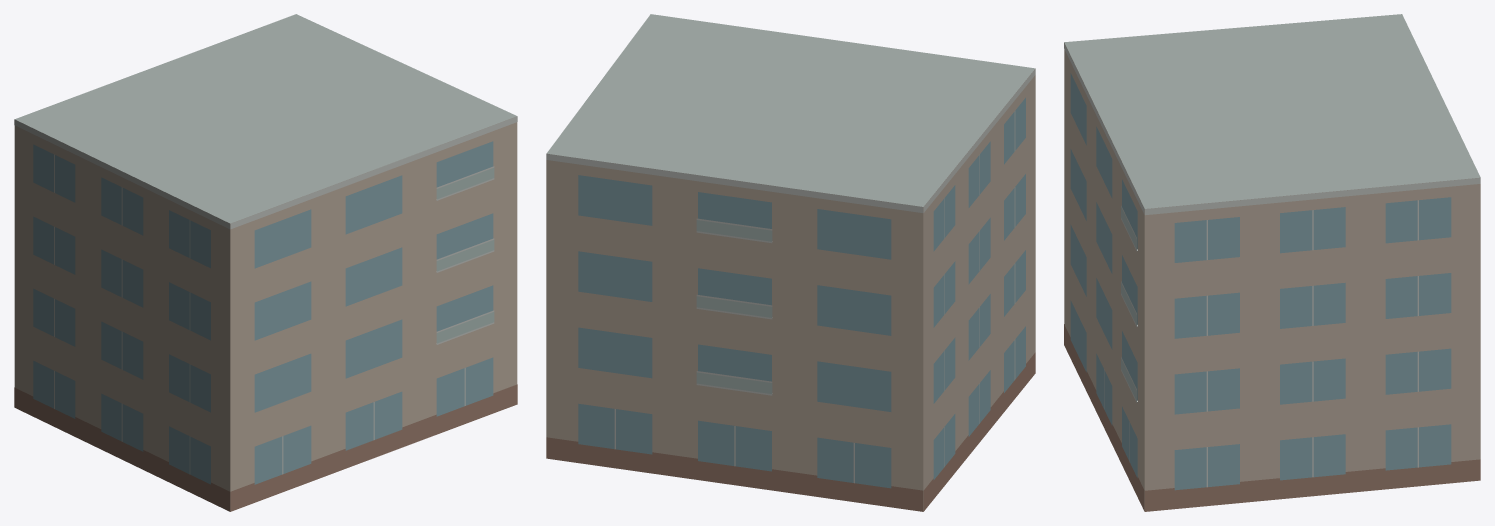
File: survey-upis-32724639.glb
The picture shows the model from 3 angles, left to right: view 1: azimuth 30°, elevation 25°; view 2: azimuth 150°, elevation 25°; view 3: azimuth 270°, elevation 25°; orthographic projection. The views are drawn at different scales.
Visible parts, largest first — view 1: survey-upis-32724639.tmp; view 2: survey-upis-32724639.tmp; view 3: survey-upis-32724639.tmp.
Boxes of the visible parts, left/top/right/bottom form: survey-upis-32724639.tmp: left=14, top=14, right=517, bottom=511; survey-upis-32724639.tmp: left=546, top=14, right=1035, bottom=511; survey-upis-32724639.tmp: left=1064, top=14, right=1480, bottom=511.
Bounding box in the file's own units: 16.44 × 11.9 × 14.85.
